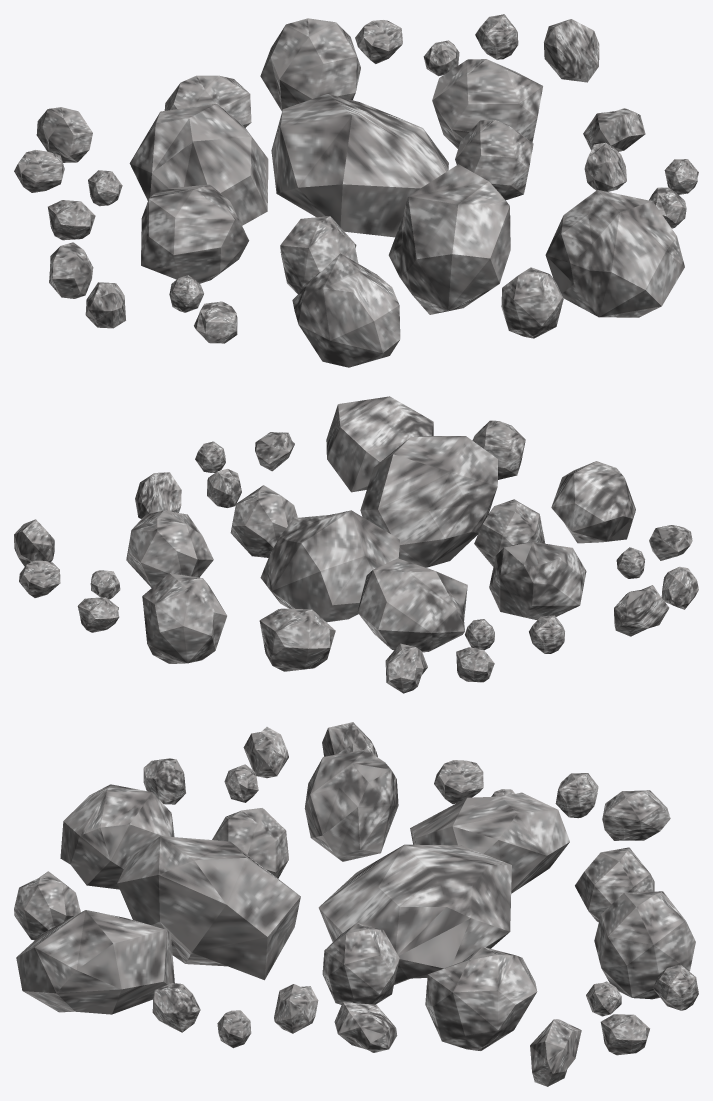
The model's file is pebbles_v2.glb.
3 renders of one model, top to bottom at view 1: azimuth 30°, elevation 25°; view 2: azimuth 150°, elevation 25°; view 3: azimuth 270°, elevation 25°, orthographic. The views are drawn at different scales.
Parts seen in each view (by area): view 1: Sphere.025; view 2: Sphere.025; view 3: Sphere.025.
Part boxes in pixels (x1=…): Sphere.025: x1=14, y1=14, x2=698, y2=367; Sphere.025: x1=14, y1=396, x2=698, y2=693; Sphere.025: x1=14, y1=722, x2=698, y2=1086.
Size of the model in its own units: 3.02 by 0.5593 by 2.69.
1 material, 1 textured.
